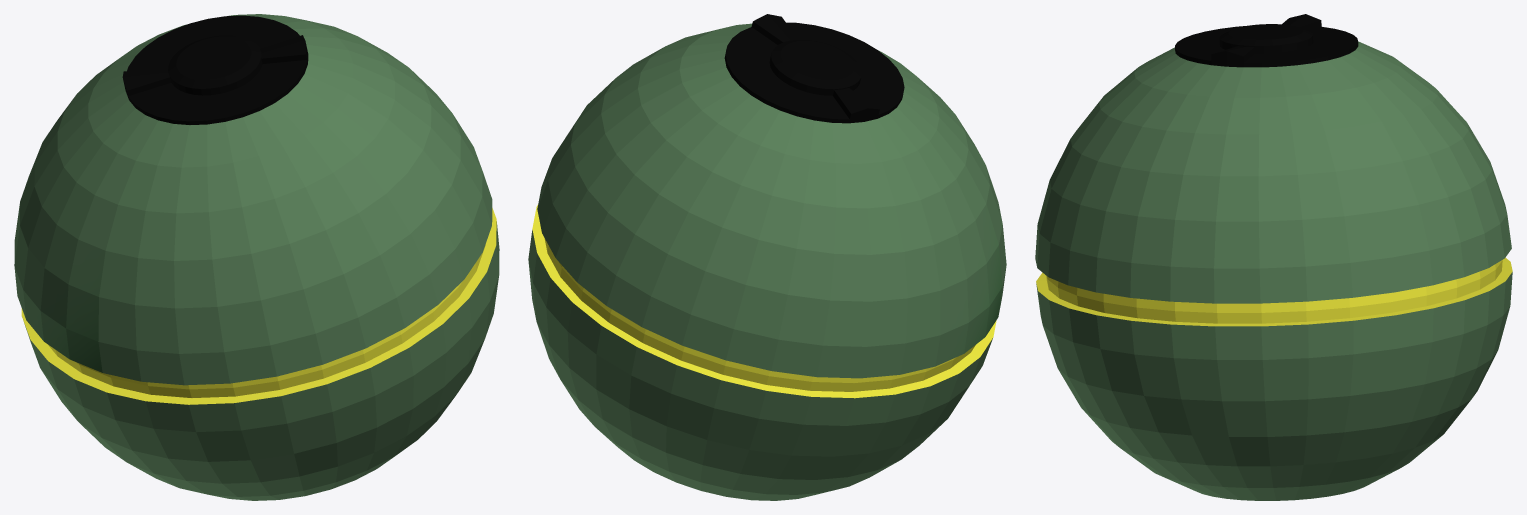
File: impact.fbx
3 views of the same model, side by side, from view 1: azimuth 30°, elevation 25°; view 2: azimuth 150°, elevation 25°; view 3: azimuth 270°, elevation 25° (orthographic).
Parts seen in each view (by area): view 1: Sphere; view 2: Sphere; view 3: Sphere.
Part boxes in pixels (x1,y1,x2,y2): Sphere: (14,14,499,500); Sphere: (528,14,1006,500); Sphere: (1035,14,1512,500).
Bounding box in the file's own units: 2 × 2.02 × 1.99.
